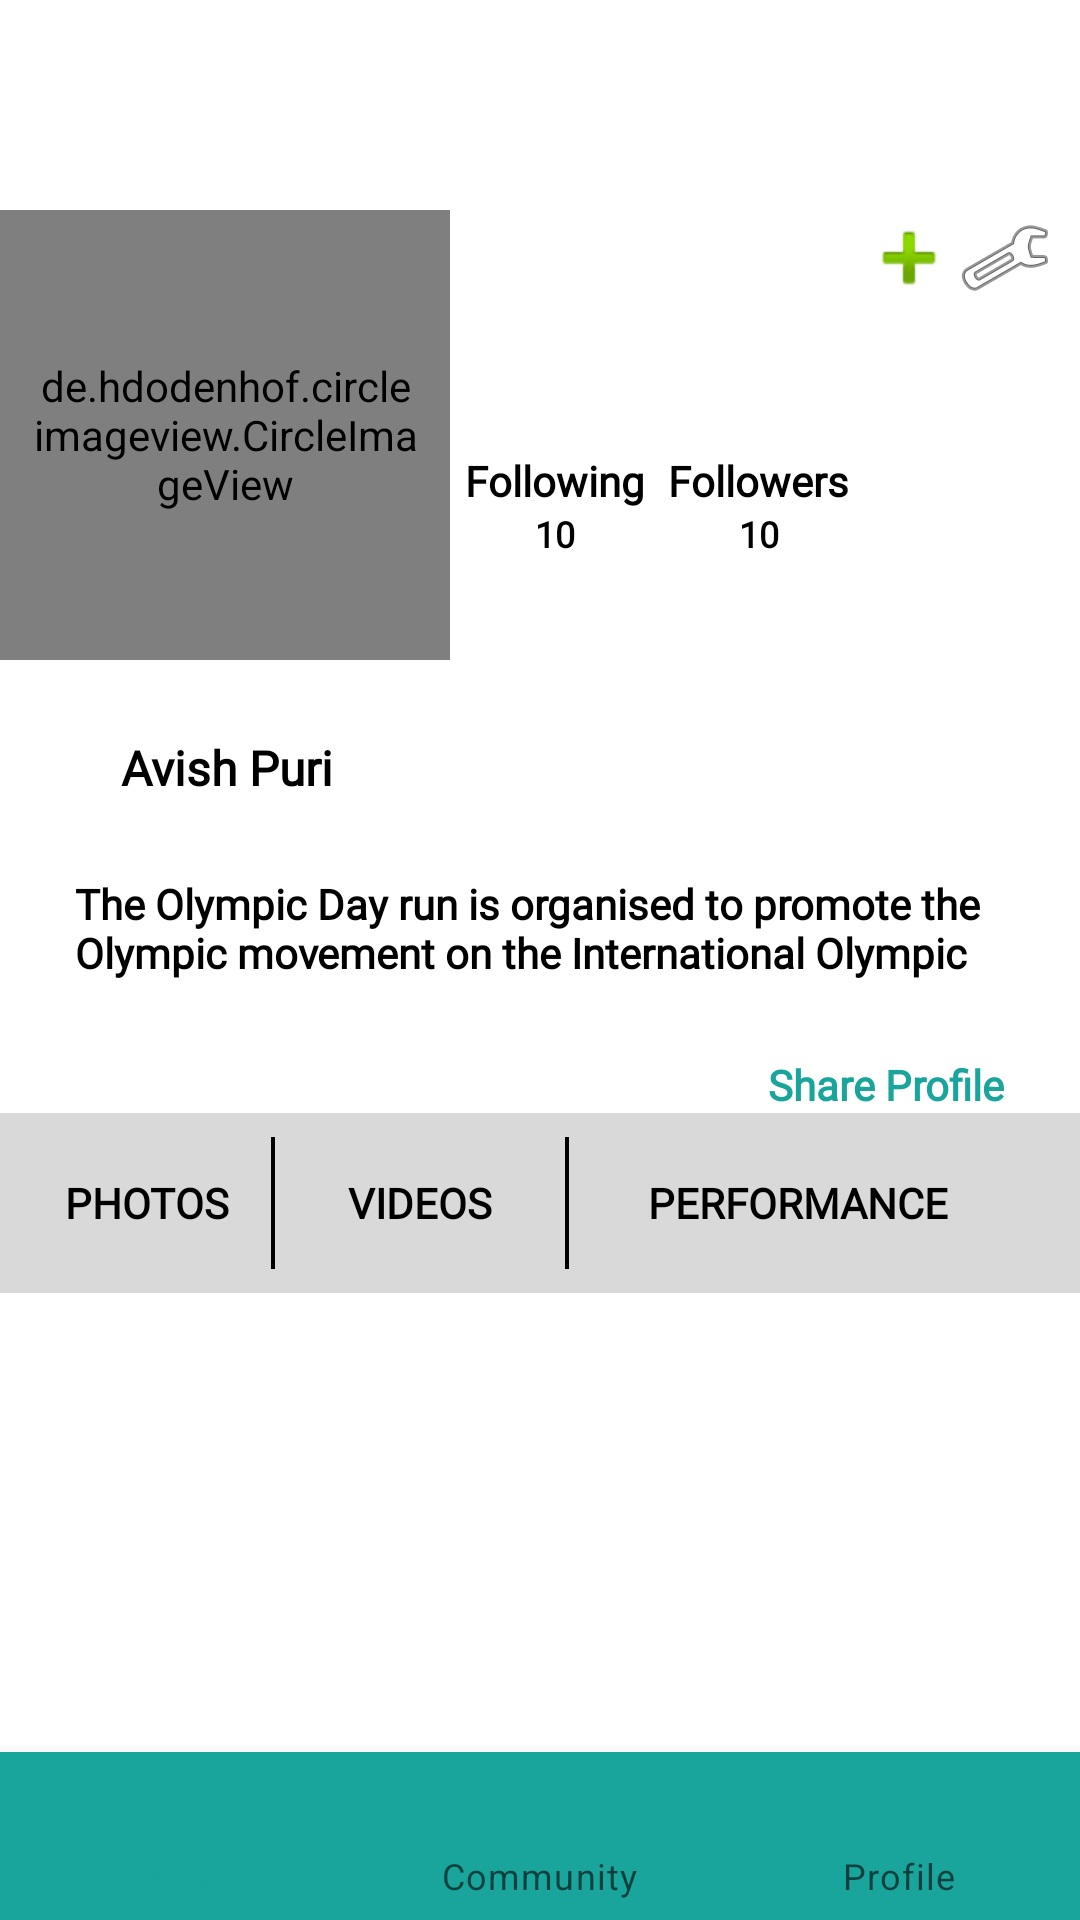

Icon bounding boxes for this 1080 x 1920 phone screenshot, format box=[x1, y1, x2, y2]:
add: box=[882, 231, 936, 285]
preferences: box=[962, 225, 1048, 291]
